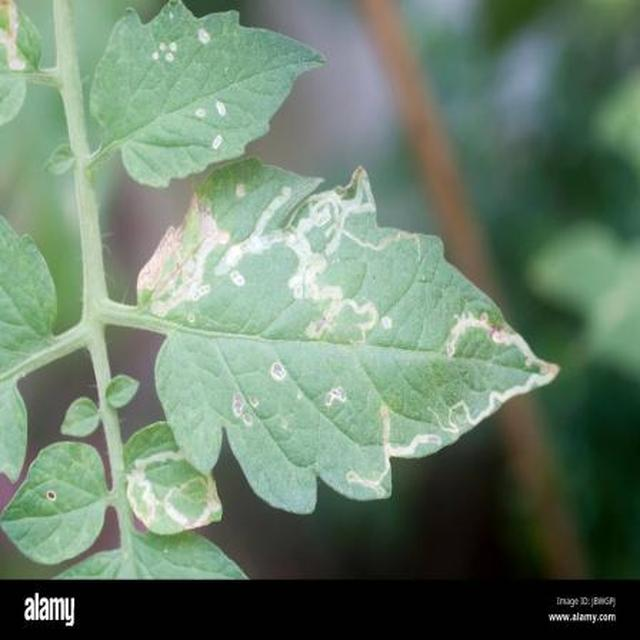Leaf Miner: (143, 168, 610, 640)
